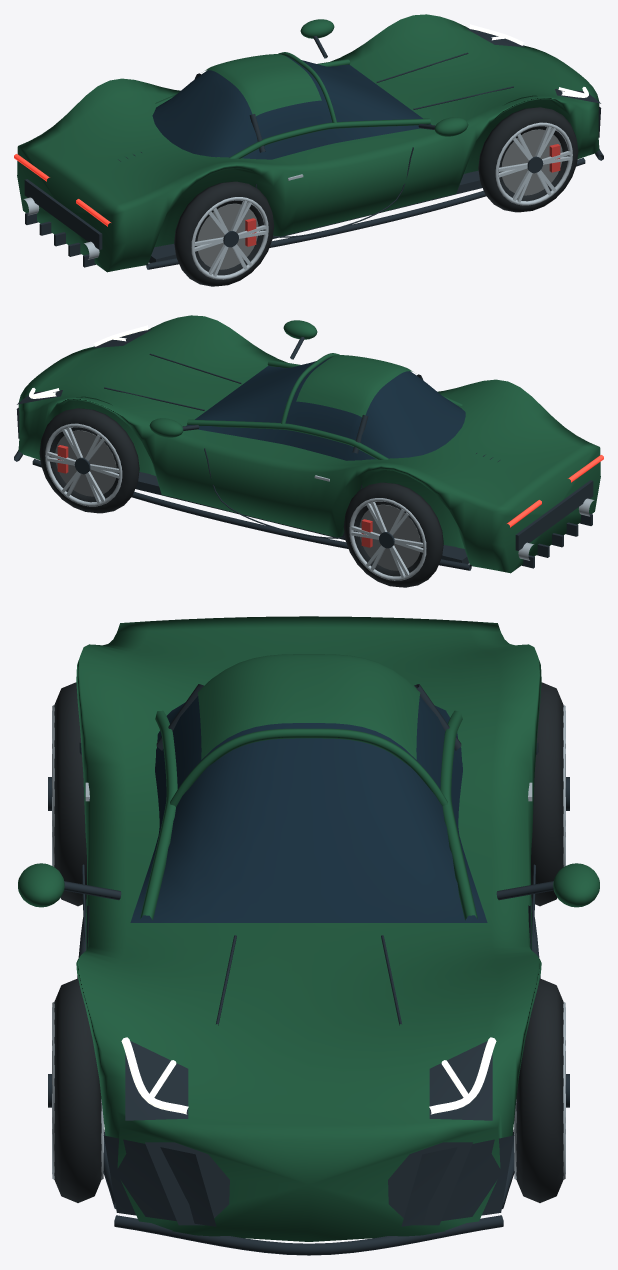
Rendered from car26.glb.
3 views of the same model, one above another, from view 1: azimuth 30°, elevation 25°; view 2: azimuth 150°, elevation 25°; view 3: azimuth 270°, elevation 25° (orthographic). The views are drawn at different scales.
Parts seen in each view (by area): view 1: continuous-sculpted-body, CAR26, curved-windows, roof-panel; view 2: continuous-sculpted-body, CAR26, curved-windows, roof-panel; view 3: continuous-sculpted-body, CAR26, curved-windows, roof-panel.
Part boxes in pixels (x1=…): continuous-sculpted-body: x1=17, y1=14, x2=599, y2=272; CAR26: x1=14, y1=19, x2=603, y2=286; curved-windows: x1=152, y1=56, x2=431, y2=159; roof-panel: x1=205, y1=54, x2=321, y2=116; continuous-sculpted-body: x1=18, y1=315, x2=600, y2=573; CAR26: x1=14, y1=320, x2=603, y2=587; curved-windows: x1=186, y1=357, x2=465, y2=460; roof-panel: x1=296, y1=355, x2=412, y2=417; continuous-sculpted-body: x1=76, y1=616, x2=541, y2=1241; CAR26: x1=18, y1=682, x2=599, y2=1255; curved-windows: x1=130, y1=696, x2=487, y2=922; roof-panel: x1=197, y1=654, x2=420, y2=759.
Size of the model in its own units: 4.6 by 1.3 by 2.22.
